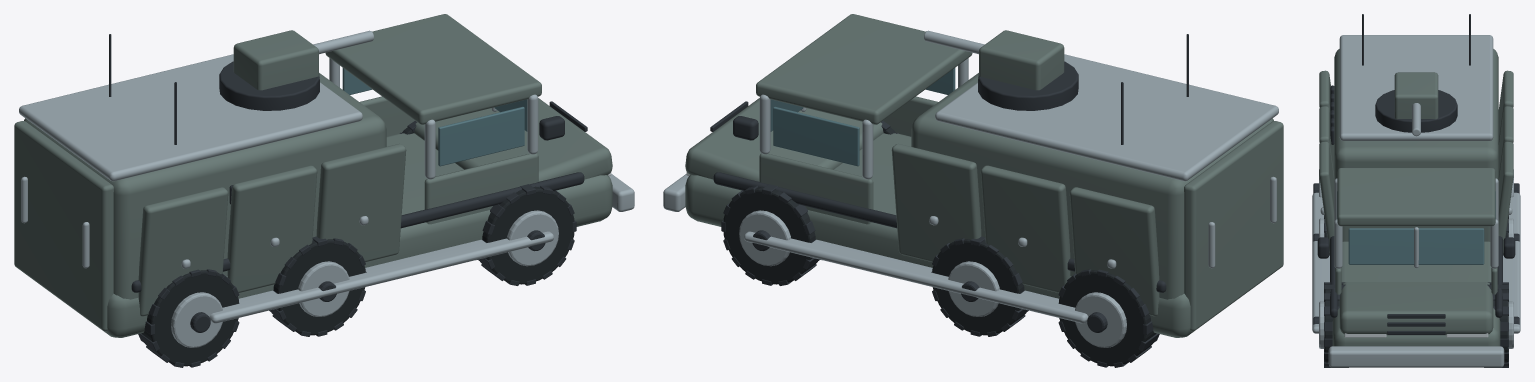
The model's file is MilitaryCarrier.fbx.
3 views of the same model, side by side, from view 1: azimuth 30°, elevation 25°; view 2: azimuth 150°, elevation 25°; view 3: azimuth 270°, elevation 25° (orthographic). The views are drawn at different scales.
Parts seen in each view (by area): view 1: VehicleRoot_SecurityArmor, VehicleRoot_SecuritySteel, RearRamp_SecurityArmor, VehicleRoot_SecurityCarbon, VehicleRoot_SecurityGlass, Wheel_SecurityRubber, Wheel.002_SecurityRubber, Wheel.001_SecurityRubber, Wheel_SecuritySteel, Wheel.002_SecuritySteel, Wheel.001_SecuritySteel, Wheel_SecurityCarbon (+3 smaller); view 2: VehicleRoot_SecurityArmor, VehicleRoot_SecuritySteel, RearRamp_SecurityArmor, VehicleRoot_SecurityCarbon, VehicleRoot_SecurityGlass, Wheel.003_SecurityRubber, Wheel.005_SecurityRubber, Wheel.004_SecurityRubber, Wheel.003_SecuritySteel, Wheel.005_SecuritySteel, Wheel.004_SecuritySteel, Wheel.003_SecurityCarbon (+3 smaller); view 3: VehicleRoot_SecurityArmor, VehicleRoot_SecuritySteel, VehicleRoot_SecurityGlass, VehicleRoot_SecurityCarbon, Wheel.002_SecurityCarbon, Wheel.005_SecurityCarbon, VehicleRoot_SecurityCeramic, Wheel.002_SecurityRubber, Wheel.005_SecurityRubber, Wheel.002_SecuritySteel, Wheel.005_SecuritySteel.
Boxes of the visible parts, x1,y1,x2,y2 form: VehicleRoot_SecurityArmor: (24,14,612,337); VehicleRoot_SecuritySteel: (19,30,634,323); RearRamp_SecurityArmor: (14,121,113,331); VehicleRoot_SecurityCarbon: (109,34,587,292); VehicleRoot_SecurityGlass: (342,68,527,166); Wheel_SecurityRubber: (141,270,238,366); Wheel.002_SecurityRubber: (480,186,574,284); Wheel.001_SecurityRubber: (272,239,365,335); Wheel_SecuritySteel: (171,292,222,347); Wheel.002_SecuritySteel: (506,210,558,266); Wheel.001_SecuritySteel: (298,261,349,316); Wheel_SecurityCarbon: (138,269,239,367); VehicleRoot_SecurityArmor: (685,14,1273,337); VehicleRoot_SecuritySteel: (663,30,1278,323); RearRamp_SecurityArmor: (1184,121,1283,331); VehicleRoot_SecurityCarbon: (710,34,1188,292); VehicleRoot_SecurityGlass: (770,68,955,166); Wheel.003_SecurityRubber: (1059,270,1156,366); Wheel.005_SecurityRubber: (723,186,817,284); Wheel.004_SecurityRubber: (932,239,1025,335); Wheel.003_SecuritySteel: (1075,292,1126,347); Wheel.005_SecuritySteel: (739,210,791,266); Wheel.004_SecuritySteel: (948,261,999,316); Wheel.003_SecurityCarbon: (1058,269,1159,367); VehicleRoot_SecurityArmor: (1319,49,1513,346); VehicleRoot_SecuritySteel: (1312,35,1520,367); VehicleRoot_SecurityGlass: (1337,191,1495,264); VehicleRoot_SecurityCarbon: (1317,14,1515,334); Wheel.002_SecurityCarbon: (1313,282,1348,367); Wheel.005_SecurityCarbon: (1484,282,1519,367); VehicleRoot_SecurityCeramic: (1344,333,1488,337); Wheel.002_SecurityRubber: (1324,284,1342,362); Wheel.005_SecurityRubber: (1490,284,1508,362); Wheel.002_SecuritySteel: (1319,301,1324,348); Wheel.005_SecuritySteel: (1508,301,1513,348).
Bounding box in the file's own units: 7.75 × 3.72 × 3.23.
